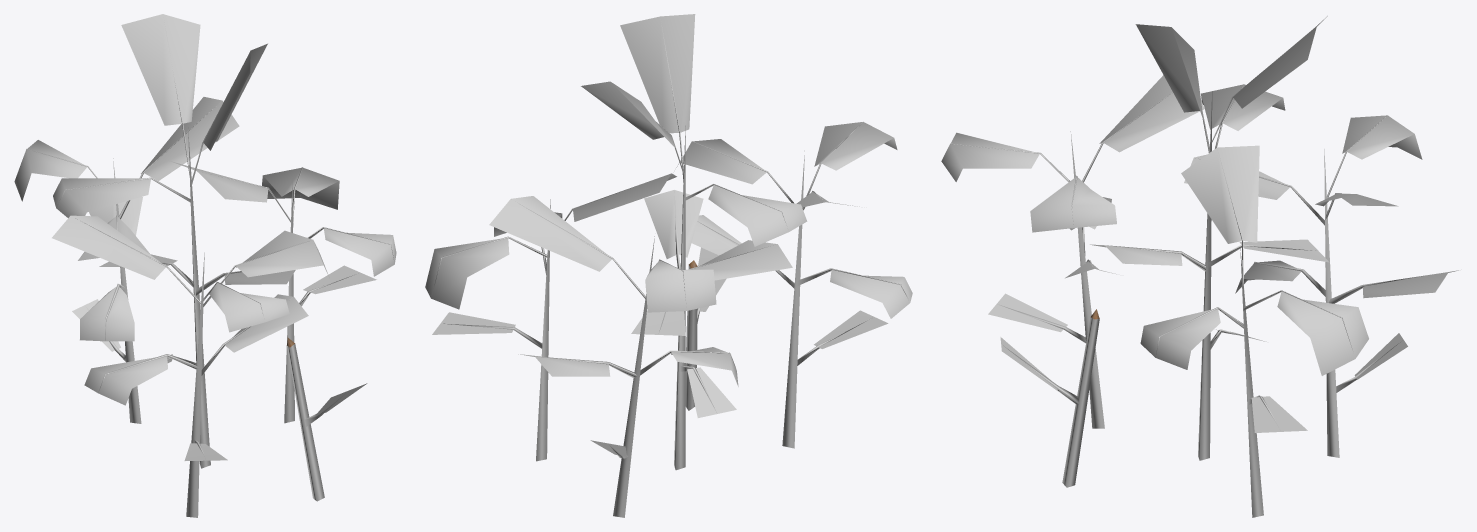
The model's file is tree14.FBX.
3 views of the same model, side by side, from view 1: azimuth 30°, elevation 25°; view 2: azimuth 150°, elevation 25°; view 3: azimuth 270°, elevation 25° (orthographic). The views are drawn at different scales.
Parts seen in each view (by area): view 1: Tree14; view 2: Tree14; view 3: Tree14.
Boxes of the visible parts, x1,y1,x2,y2 form: Tree14: [14, 14, 396, 517]; Tree14: [425, 14, 912, 517]; Tree14: [941, 16, 1458, 517].
Bounding box in the file's own units: 52.86 × 57.84 × 60.84.
